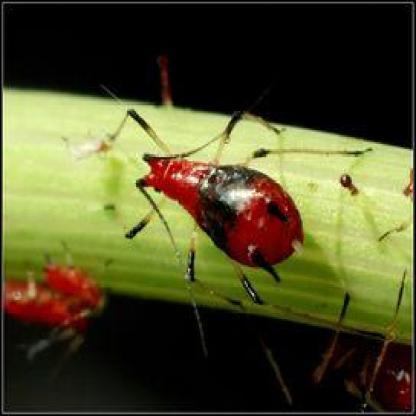aphid: (110, 88, 317, 308), (4, 269, 96, 342), (32, 247, 111, 308), (388, 357, 416, 414)
